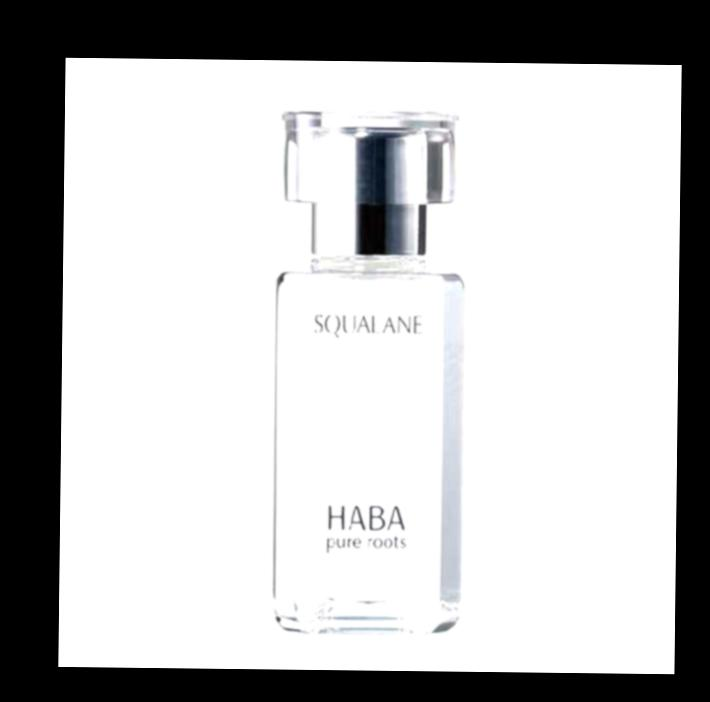cosmetic: (270, 108, 467, 633)
